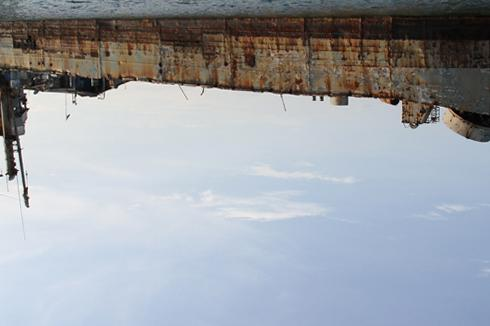rust: (15, 17, 490, 53), (112, 61, 304, 93), (321, 71, 401, 100)
